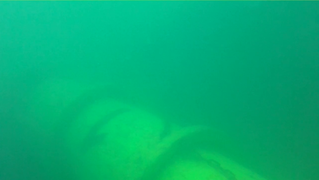1: (77, 106, 130, 159)
pipe: (22, 46, 271, 179)
